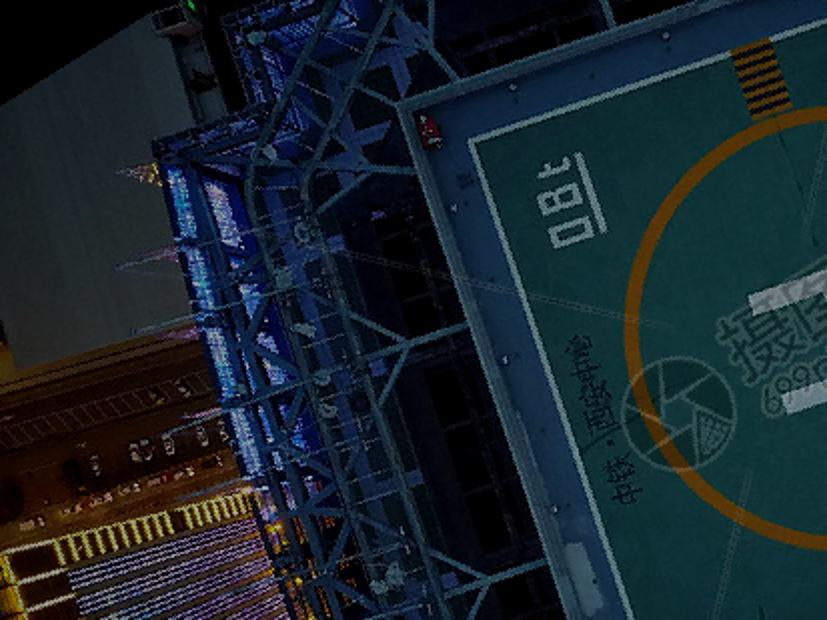Apron: (621, 94, 827, 546)
